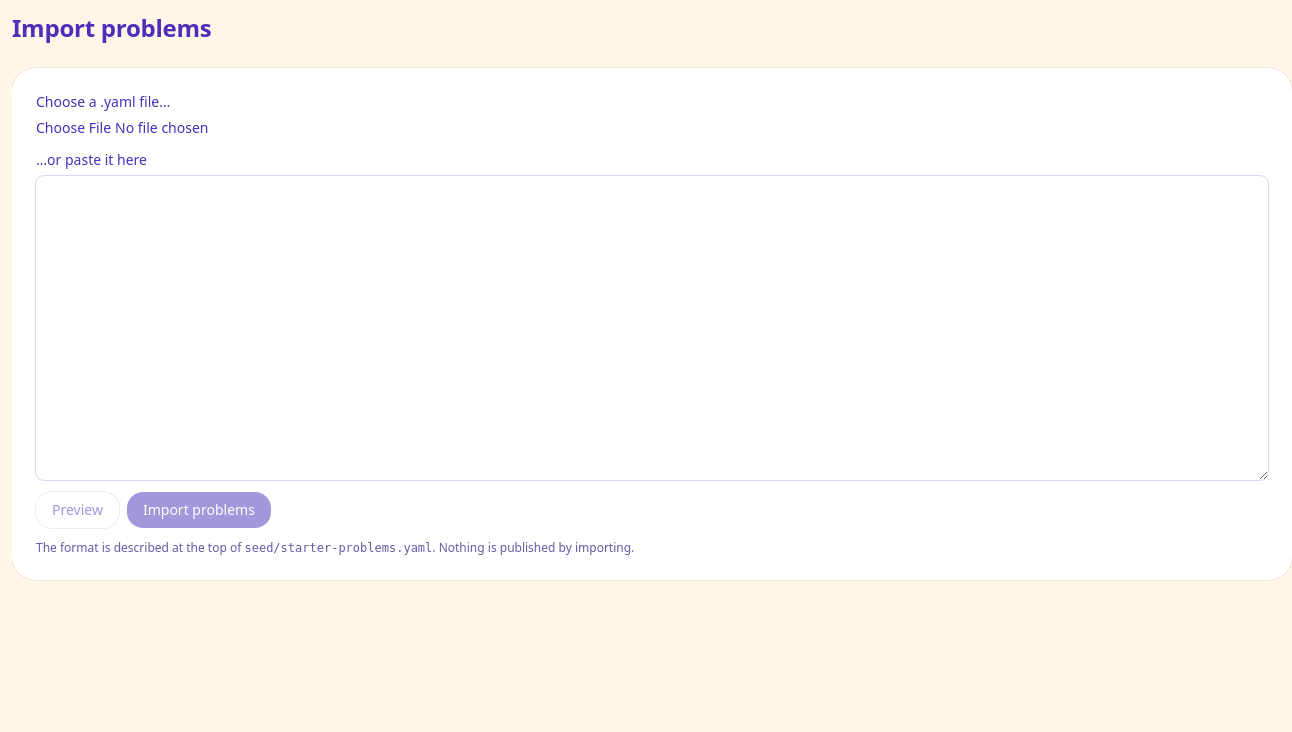
Test case: applying imports and points at the bank
This screenshot has width=1292, height=732.
Type "problems: none" into the text box labelled "…or paste it here" at (652, 328), box [36,176,1268,480]
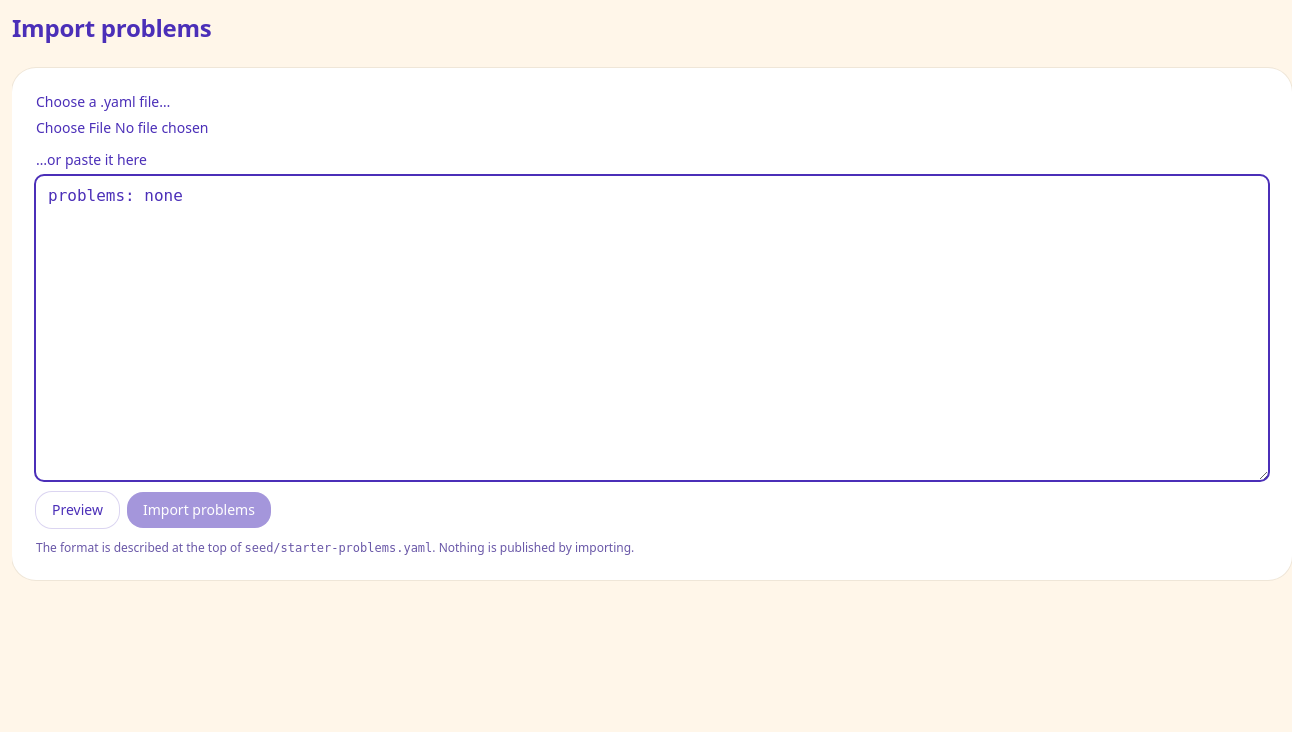
Click the button "Preview" at (77, 510), box [36,492,119,528]
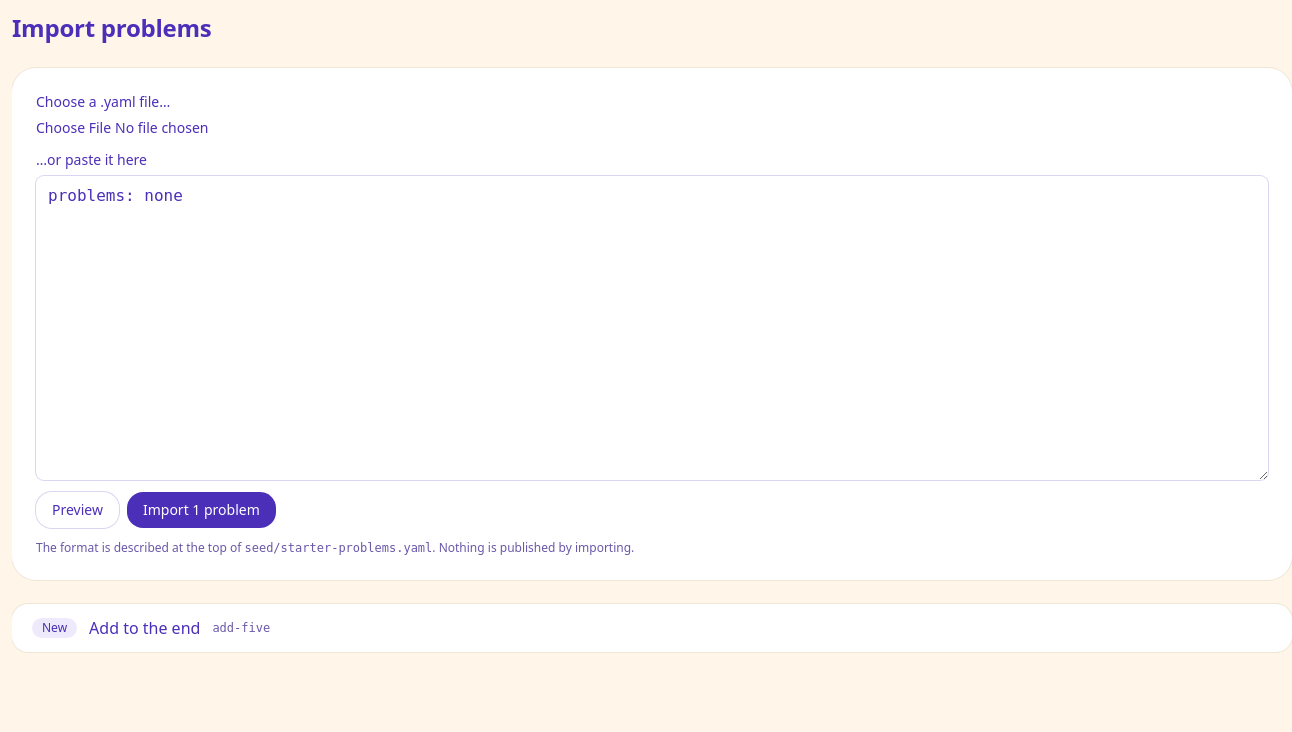
Click the button "Import 1 problem" at (201, 510), box [127,492,276,528]
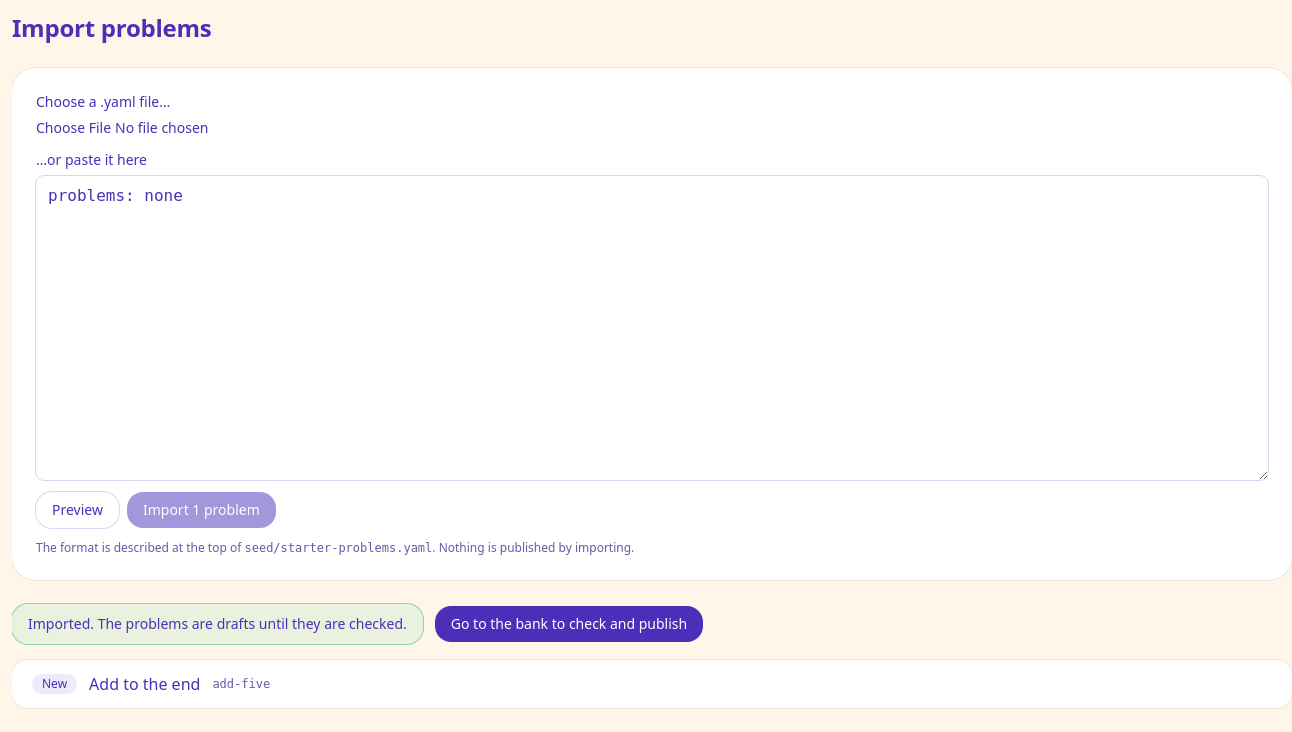
Now the text "Imported. The problems are drafts until they are checked." is shown, box [12,604,423,644]
